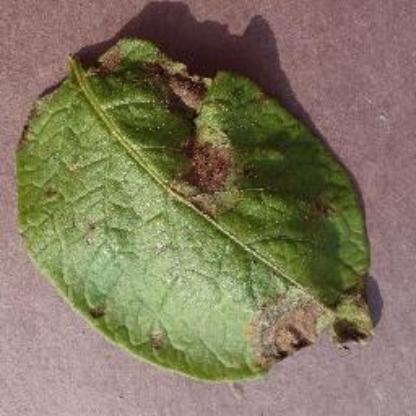Late-Blight: (12, 38, 387, 386)
